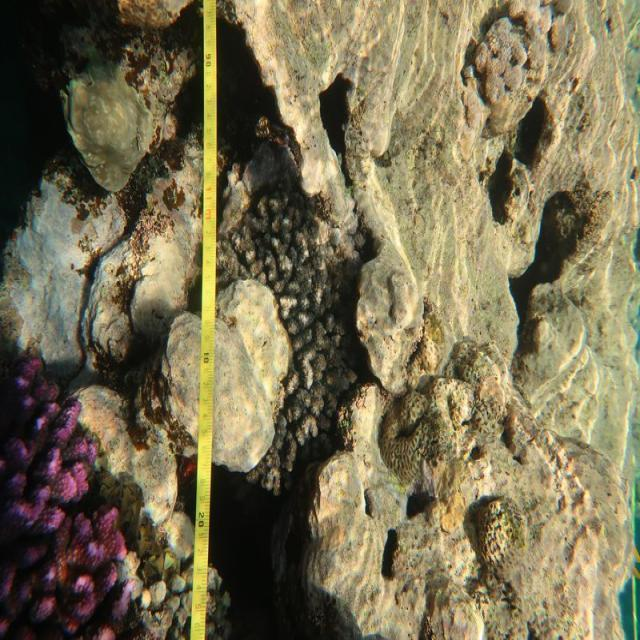Healthy Coral: (0, 347, 126, 640)
